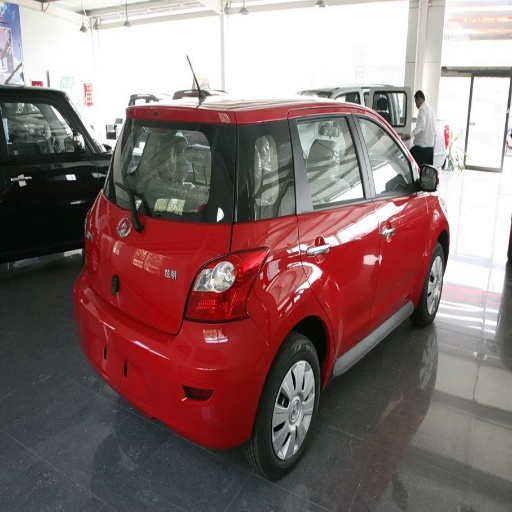back_bumper: (77, 274, 277, 442)
back_right_door: (262, 108, 381, 350)
trunk: (92, 201, 303, 335)
